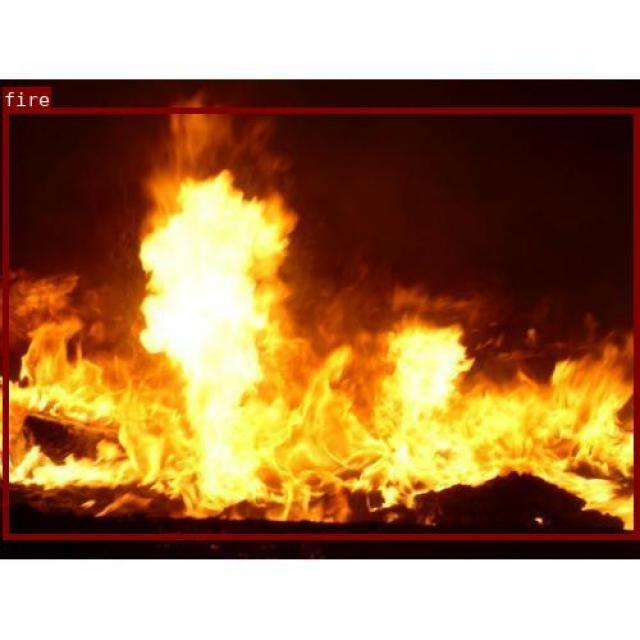fire: (2, 107, 637, 537)
